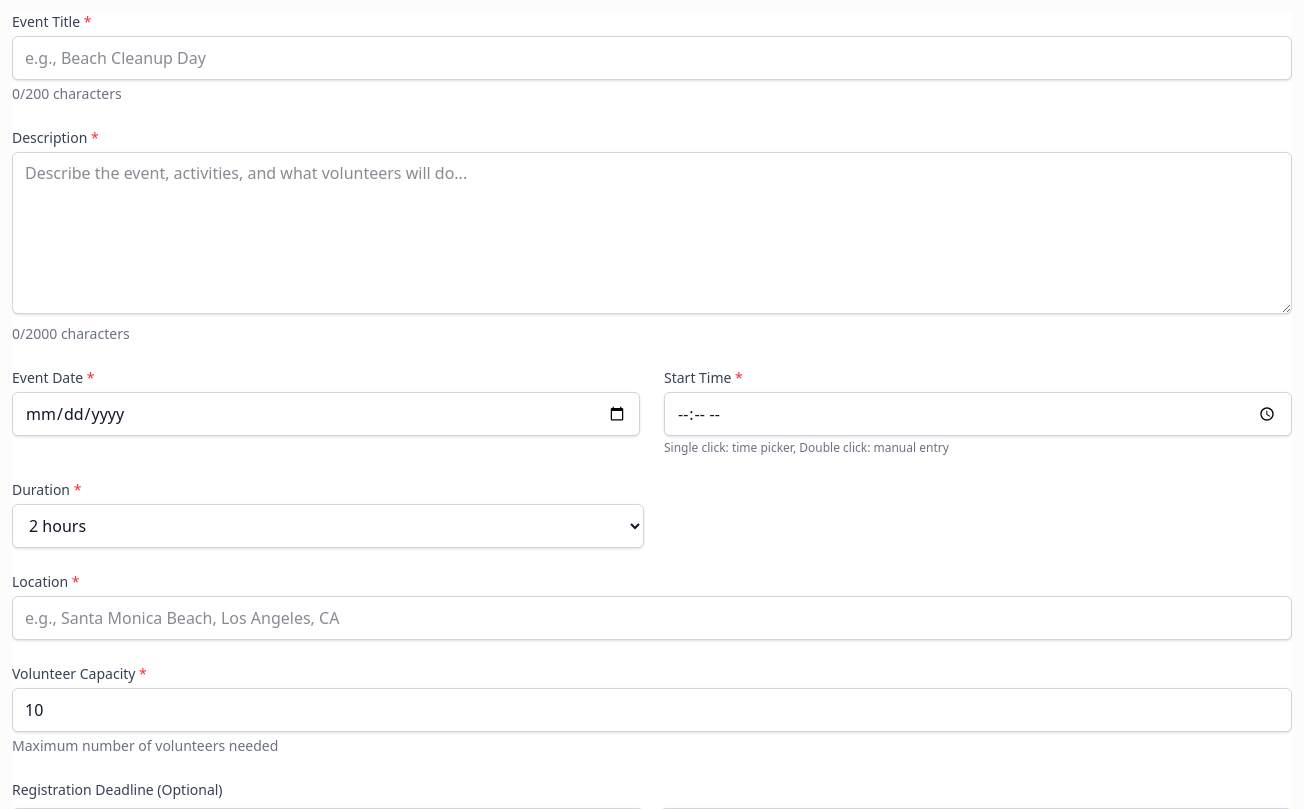
Test case: EventForm › validates future date requirement
Type "2020-01-01" into the date field labelled "Event Date *" at (326, 414), box [12, 392, 640, 436]
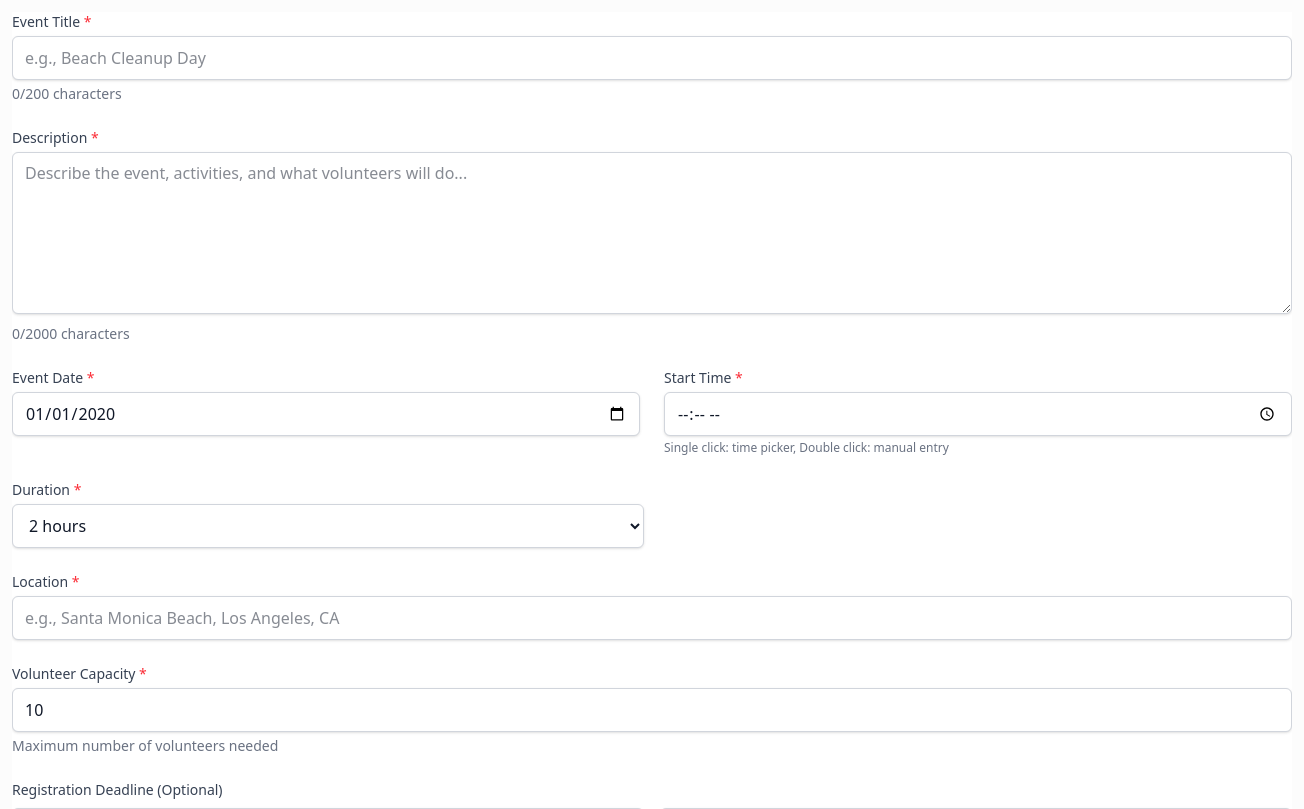
Leave the date field labelled "Event Date *", box [12, 392, 640, 436]
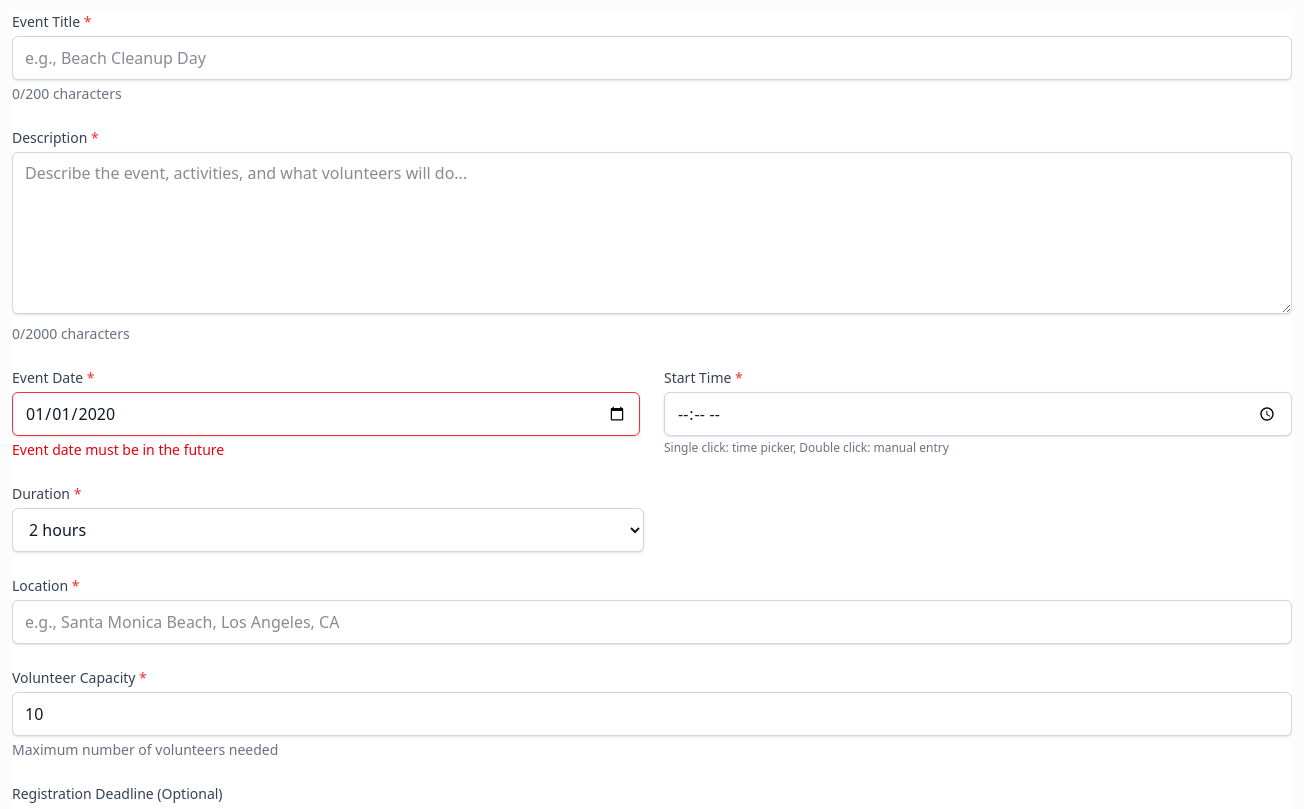
Check: the text "Event date must be in the future" is shown, box [12, 440, 224, 459]
